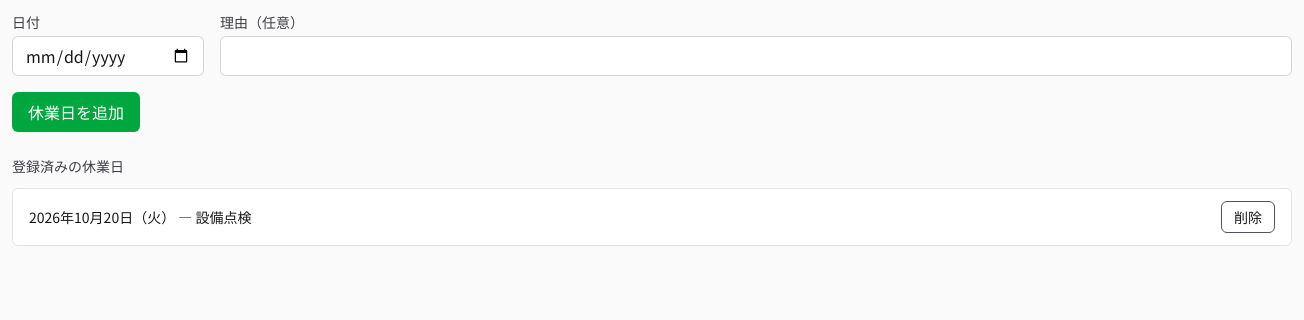
it: 追加 › 追加できたら、フォームを空に戻し、一覧に出る
The width and height of the screenshot is (1304, 320).
Check: the text "2026年10月20日（火） — 設備点検" is shown, box [29, 207, 252, 227]
Step 1. Type "2026-11-03" into the date field labelled "日付" → (108,56), box [12, 36, 204, 76]
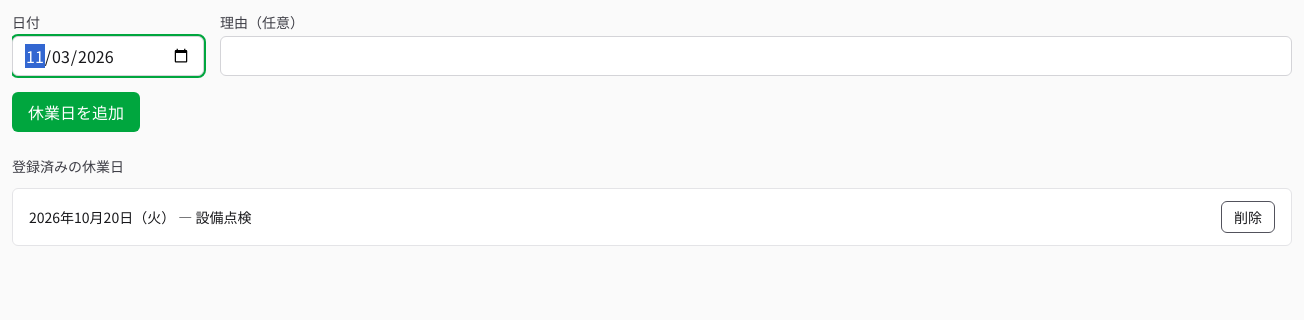
Step 2. Type "研修" into the field labelled "理由（任意）" → (756,56), box [220, 36, 1292, 76]
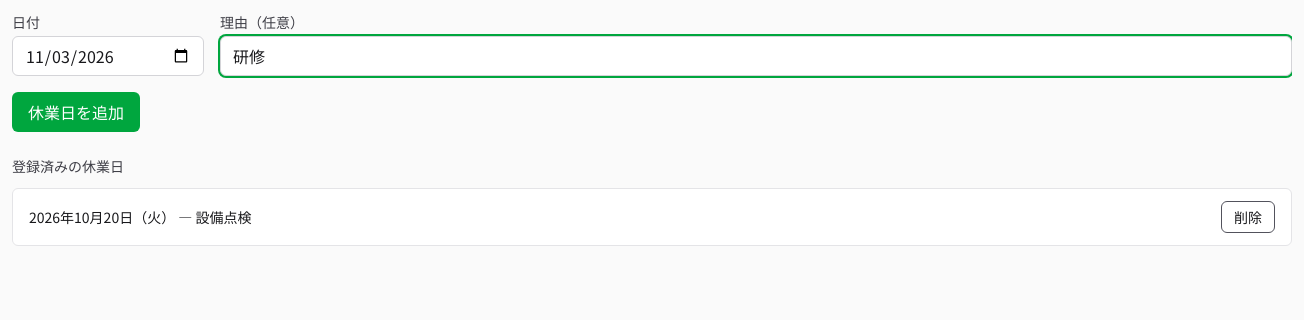
Step 3. Click the button "休業日を追加" → (76,112), box [12, 92, 140, 132]
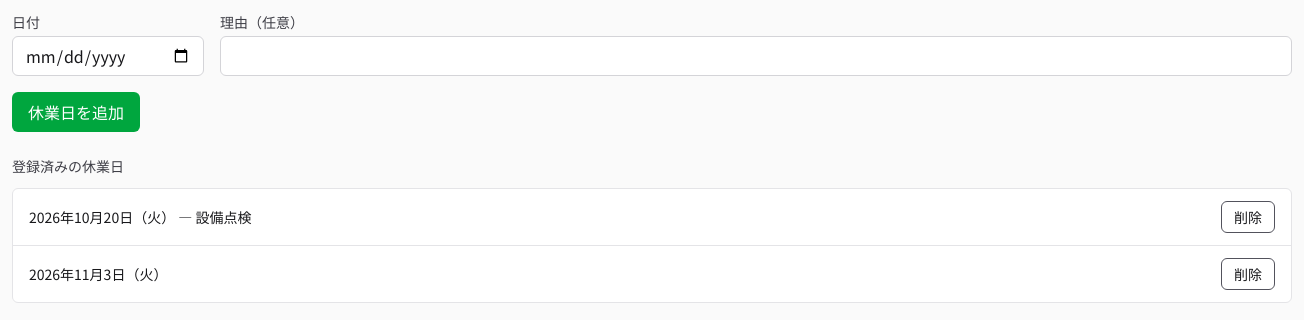
Check: the text "2026年11月3日（火）" is shown, box [29, 264, 167, 284]
Check: the date field labelled "日付" is empty, box [12, 36, 204, 76]
Check: the field labelled "理由（任意）" is empty, box [220, 36, 1292, 76]
